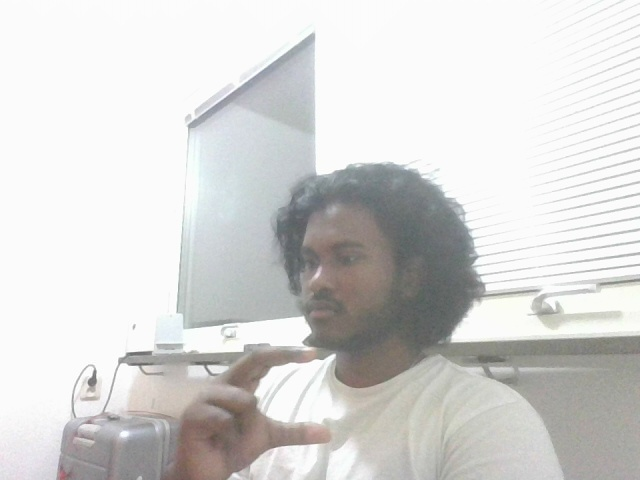no: (180, 335, 339, 480)
